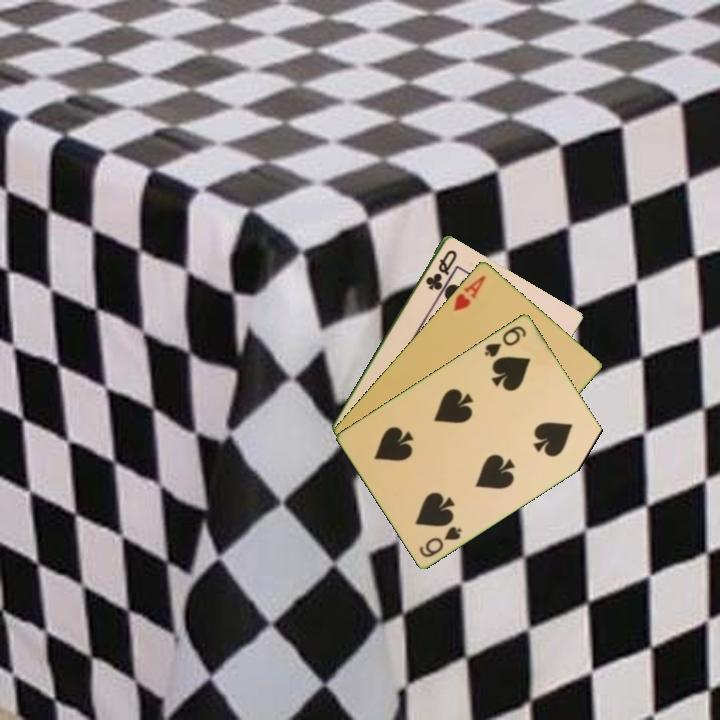6s: (416, 522, 465, 560), (481, 322, 529, 360)
Ah: (450, 271, 488, 314)
Qc: (422, 246, 460, 293)
